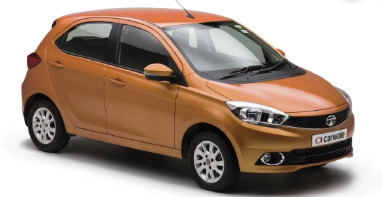car: (19, 5, 356, 194)
